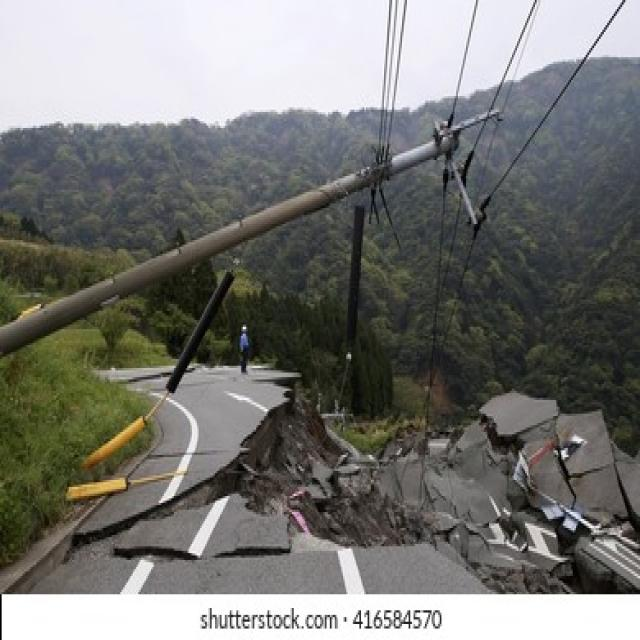road collapse: (0, 253, 640, 597)
